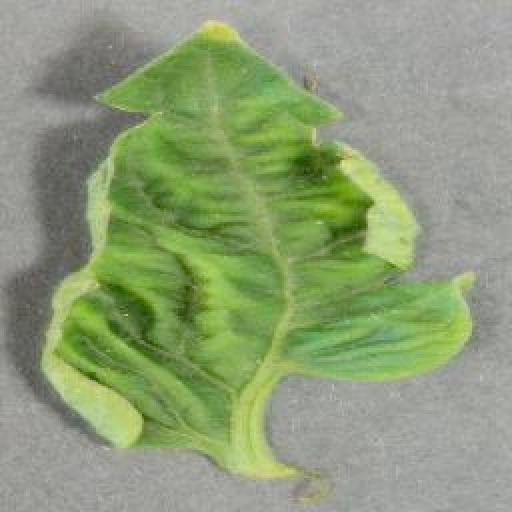disease_tomato: (42, 20, 478, 452)
